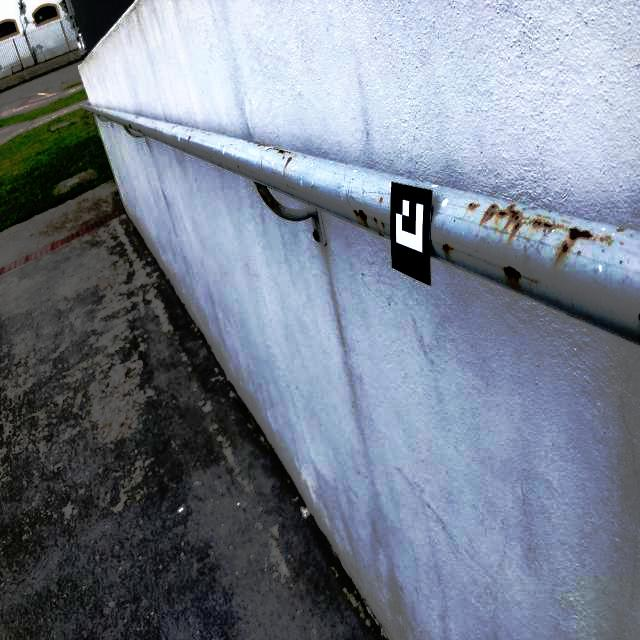Corrosion: (479, 203, 529, 237), (554, 226, 594, 265), (256, 186, 275, 209), (503, 265, 522, 282), (533, 218, 559, 230), (123, 126, 140, 138), (442, 242, 455, 255), (354, 209, 367, 221), (599, 235, 613, 245), (264, 186, 274, 198), (254, 142, 271, 147), (468, 202, 478, 210), (278, 149, 288, 154), (286, 157, 292, 165), (616, 227, 625, 232), (381, 221, 385, 228), (374, 217, 377, 223), (638, 313, 640, 321), (128, 124, 132, 128), (253, 181, 257, 184), (380, 197, 382, 202), (188, 136, 190, 141), (135, 116, 138, 119), (286, 183, 288, 187), (282, 156, 284, 159), (237, 165, 239, 168), (138, 128, 140, 131), (276, 148, 278, 150), (274, 148, 276, 150), (289, 152, 291, 154), (172, 127, 174, 129), (191, 130, 194, 131), (311, 187, 312, 188)
